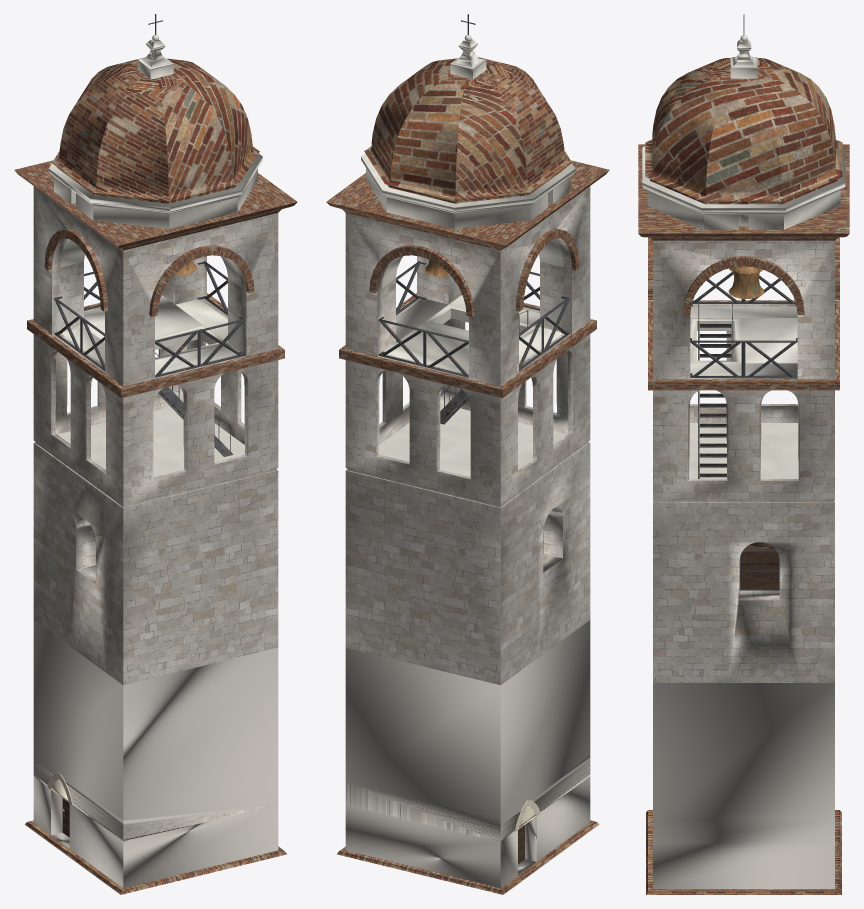
File: campanile.fbx
The picture shows the model from 3 angles, left to right: view 1: azimuth 30°, elevation 25°; view 2: azimuth 150°, elevation 25°; view 3: azimuth 270°, elevation 25°; orthographic projection.
Visible parts, largest first — view 1: Sezione centrale, Sezione inferiore, Sezione superiore, Cupola, Base cupola, Cornicione cupola, Cornicione centrale, Ringhiera superiore, Archi superiori, Cornicione inferiore, Punta cupola, Gradini scala; view 2: Sezione centrale, Sezione inferiore, Sezione superiore, Cupola, Base cupola, Cornicione cupola, Cornicione centrale, Ringhiera superiore, Archi superiori, Cornicione inferiore, Punta cupola; view 3: Sezione centrale, Sezione inferiore, Cupola, Sezione superiore, Base cupola, Cornicione cupola, Cornicione centrale, Archi superiori, Cornicione inferiore, Ringhiera superiore, Gradini scala, Campana destra (+1 smaller).
Boxes of the visible parts, x1,y1,x2,y2 form: Sezione centrale: (33,329,278,685); Sezione inferiore: (33,620,278,888); Sezione superiore: (33,186,278,386); Cupola: (52,57,259,203); Base cupola: (48,153,262,228); Cornicione cupola: (14,160,297,250); Cornicione centrale: (27,293,284,398); Ringhiera superiore: (53,261,245,377); Archi superiori: (44,228,254,316); Cornicione inferiore: (25,820,286,894); Punta cupola: (137,39,173,79); Gradini scala: (158,387,233,456); Sezione centrale: (345,308,590,685); Sezione inferiore: (345,620,590,888); Sezione superiore: (345,186,590,386); Cupola: (364,57,571,203); Base cupola: (361,153,575,228); Cornicione cupola: (326,160,609,250); Cornicione centrale: (339,293,596,398); Ringhiera superiore: (378,261,570,377); Archi superiori: (369,228,579,316); Cornicione inferiore: (337,820,598,894); Punta cupola: (450,39,486,79); Sezione centrale: (653,321,834,682); Sezione inferiore: (653,683,834,889); Cupola: (645,58,842,204); Sezione superiore: (653,240,834,379); Base cupola: (642,146,845,229); Cornicione cupola: (638,144,849,240); Cornicione centrale: (648,300,839,390); Archi superiori: (648,237,839,314); Cornicione inferiore: (646,810,841,894); Ringhiera superiore: (690,272,797,377); Gradini scala: (698,322,733,478); Campana destra: (728,266,764,298).
Bounding box in the file's own units: 650 × 2848 × 650.
